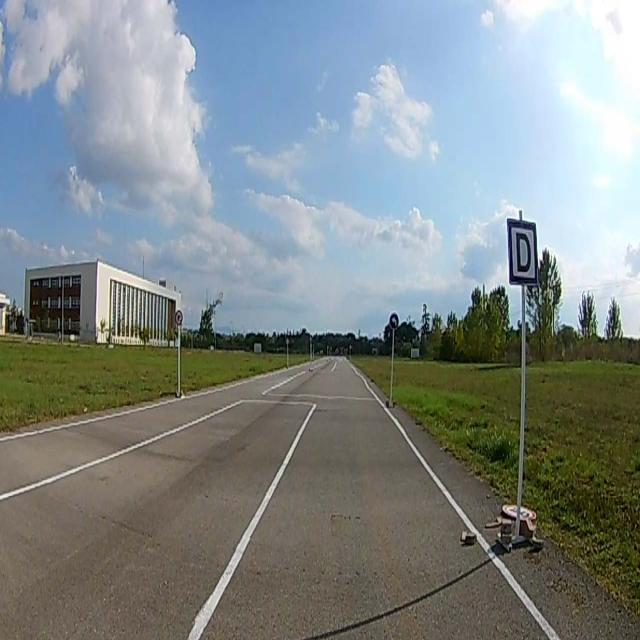durak: (507, 220, 537, 286)
sagadonulmez: (175, 310, 182, 324)
sol: (390, 312, 398, 329)
